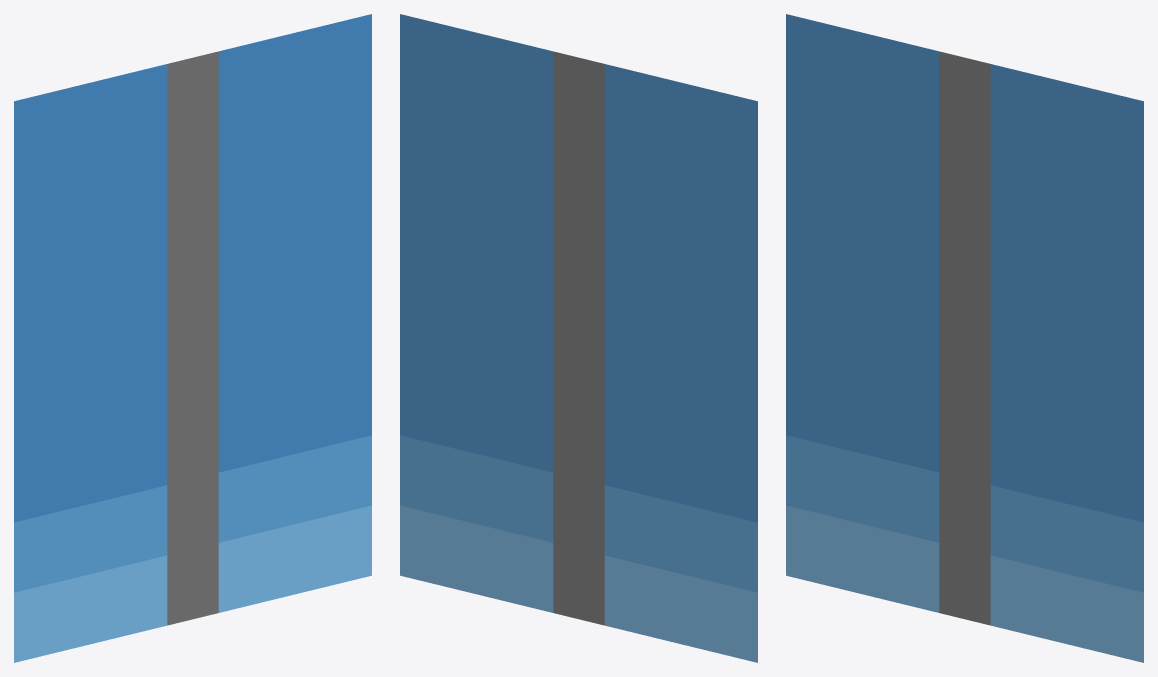
3 views of the same model, side by side, from view 1: azimuth 30°, elevation 25°; view 2: azimuth 150°, elevation 25°; view 3: azimuth 330°, elevation 25° (orthographic).
Visible parts, largest first — view 1: 00_polygon0, 01_polygon1; view 2: 00_polygon0, 01_polygon1; view 3: 00_polygon0, 01_polygon1.
Boxes of the visible parts, x1,y1,x2,y2 form: 00_polygon0: (14,57,192,662); 01_polygon1: (193,14,371,619); 00_polygon0: (579,57,757,662); 01_polygon1: (400,14,578,619); 00_polygon0: (786,14,964,619); 01_polygon1: (965,57,1143,662).
Size of the model in its own units: 0.2188 by 0.3281 by 0.
1 material, 1 textured.
